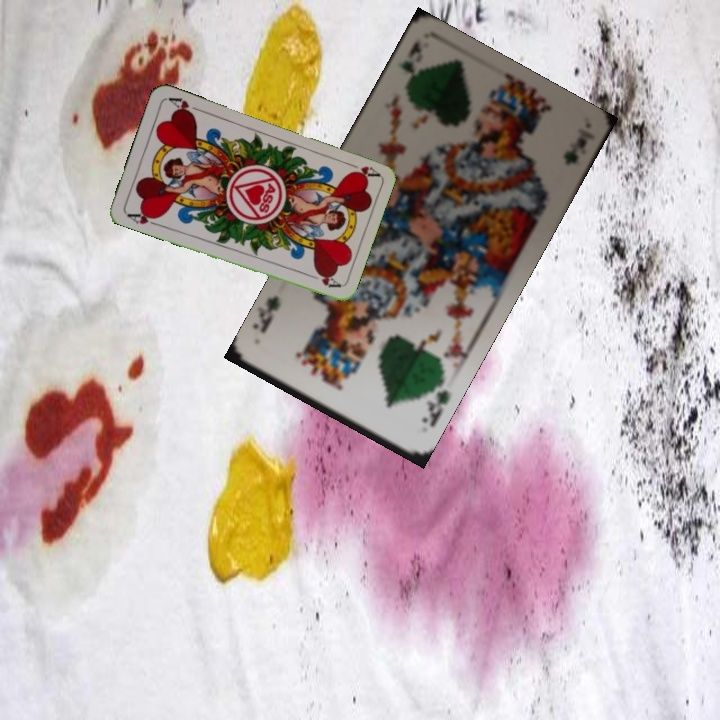GK: (417, 380, 453, 430), (394, 36, 424, 96)
HA: (341, 158, 381, 180), (123, 207, 162, 229)
